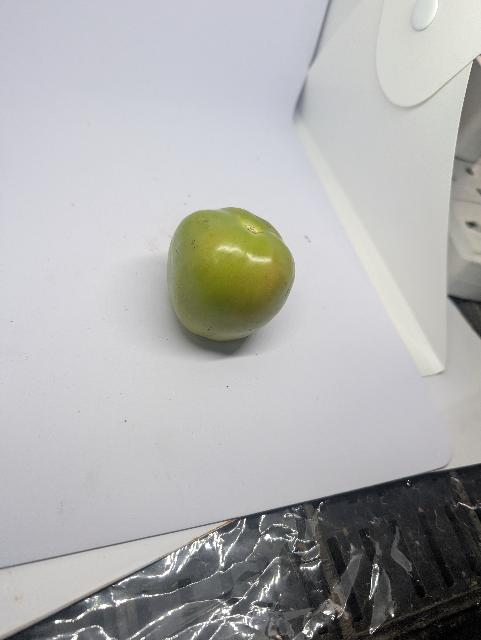green: (166, 205, 299, 344)
